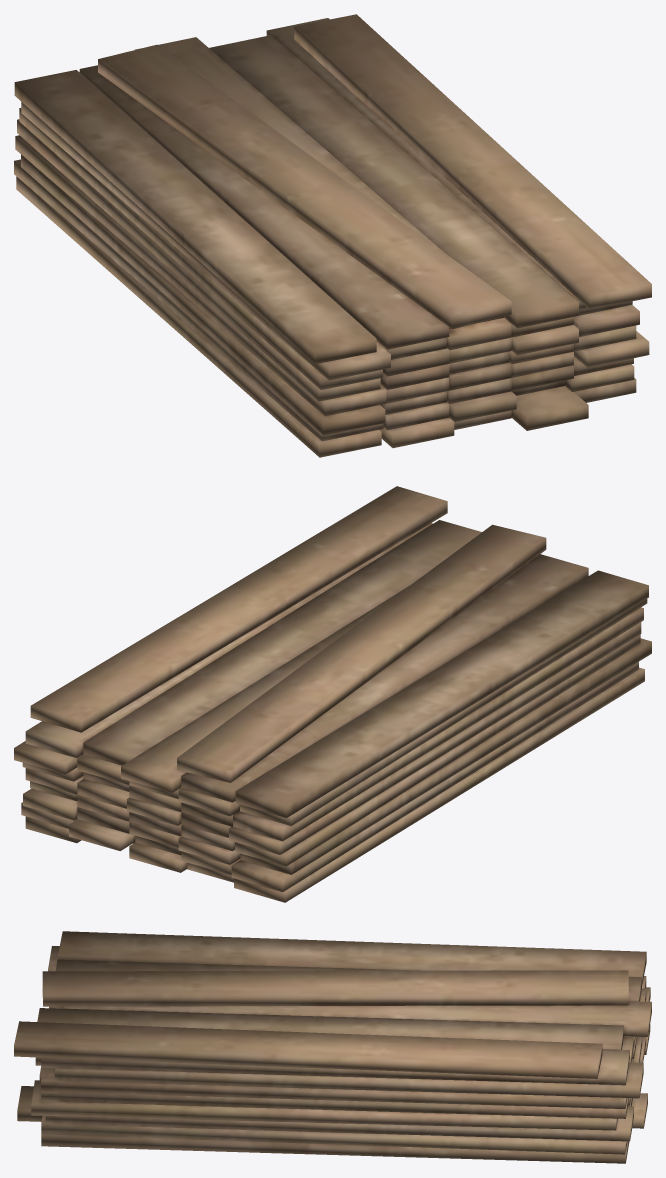
File: plank-stack.lod0.glb
3 views of the same model, one above another, from view 1: azimuth 30°, elevation 25°; view 2: azimuth 150°, elevation 25°; view 3: azimuth 270°, elevation 25° (orthographic). The views are drawn at different scales.
Visible parts, largest first — view 1: Planks_Planks_0; view 2: Planks_Planks_0; view 3: Planks_Planks_0.
Part boxes in pixels (left/top/right/bottom): Planks_Planks_0: left=14, top=14, right=651, bottom=457; Planks_Planks_0: left=14, top=486, right=651, bottom=902; Planks_Planks_0: left=14, top=931, right=651, bottom=1163.
Bounding box in the file's own units: 1.64 × 0.5219 × 3.
1 material, 1 textured.
